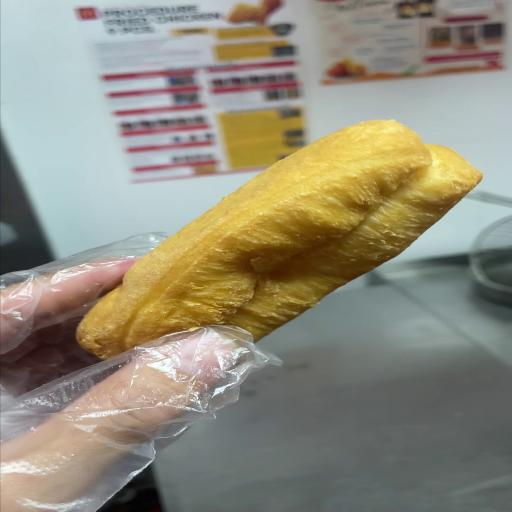brand_golden_defect: (76, 120, 482, 359)
